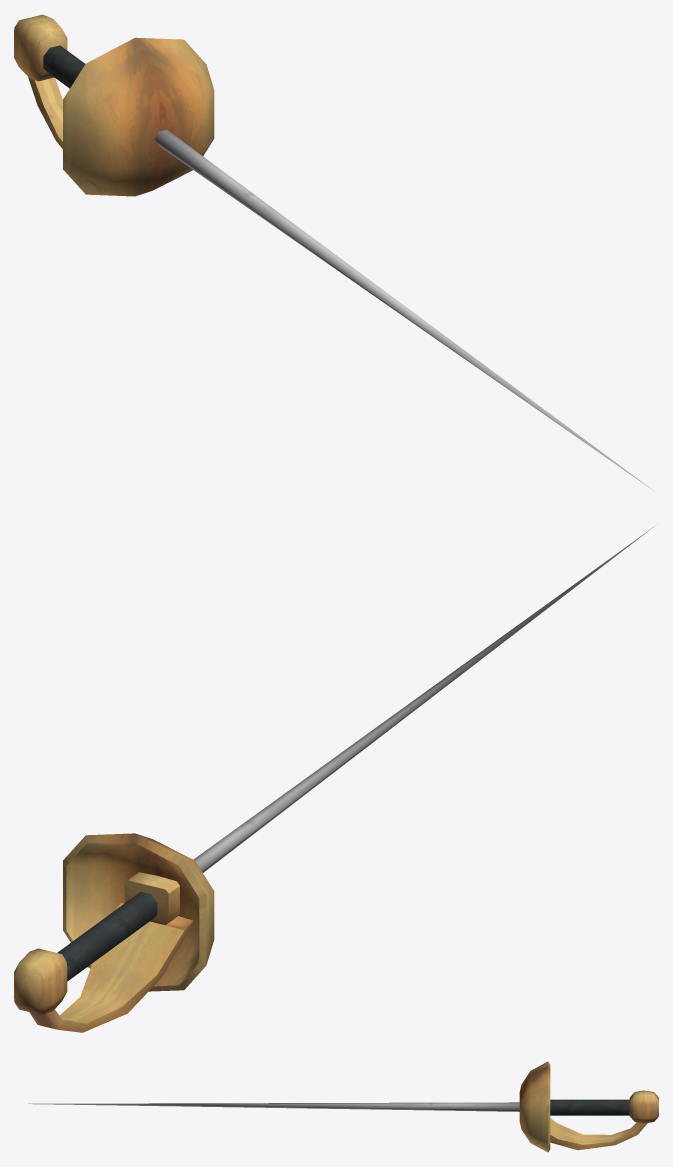
Rendered from Rapier.FBX.
3 renders of one model, top to bottom at view 1: azimuth 30°, elevation 25°; view 2: azimuth 150°, elevation 25°; view 3: azimuth 270°, elevation 25°, orthographic. The views are drawn at different scales.
Visible parts, largest first — view 1: Rapier; view 2: Rapier; view 3: Rapier.
Boxes of the visible parts, x1,y1,x2,y2 form: Rapier: [14, 14, 654, 491]; Rapier: [14, 526, 654, 1032]; Rapier: [28, 1061, 658, 1152].
Size of the model in its own units: 26.93 by 28.48 by 206.
